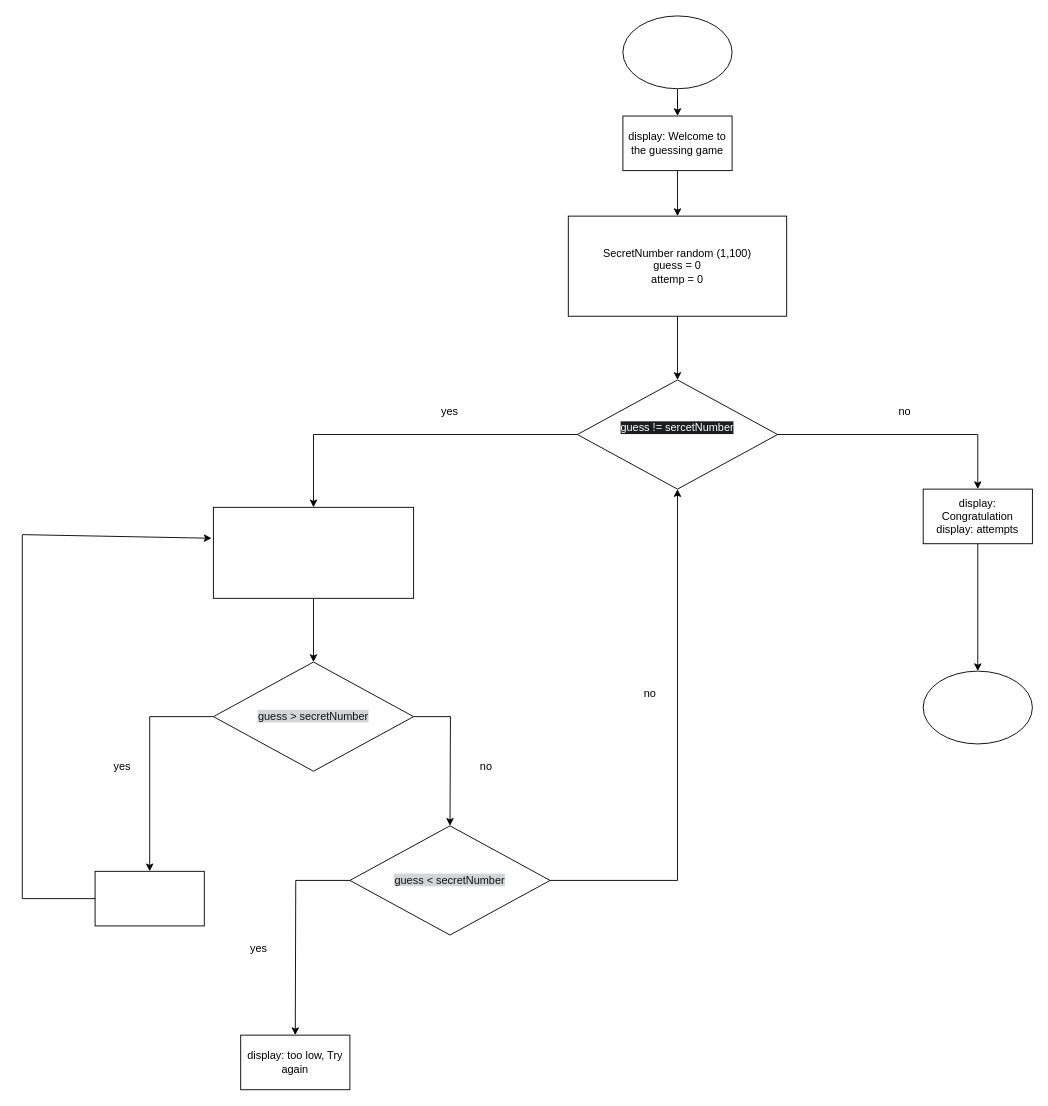
The diagram is 1048 pixels wide and 1106 high, and some of its shapes have lost their labels. The box of each missing label's shape, as (x1, y1, x2, y2) in pixels:
begin: (622, 15, 732, 89)
Display: Enter your guess input guess attempts = attempts +: (212, 506, 414, 598)
display: too high, Try again: (94, 870, 204, 926)
end: (922, 670, 1032, 744)
